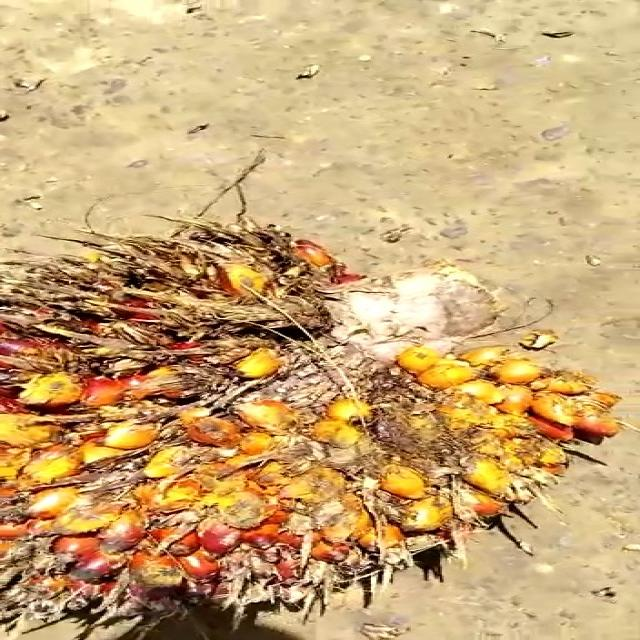palm oil: (0, 212, 613, 639)
